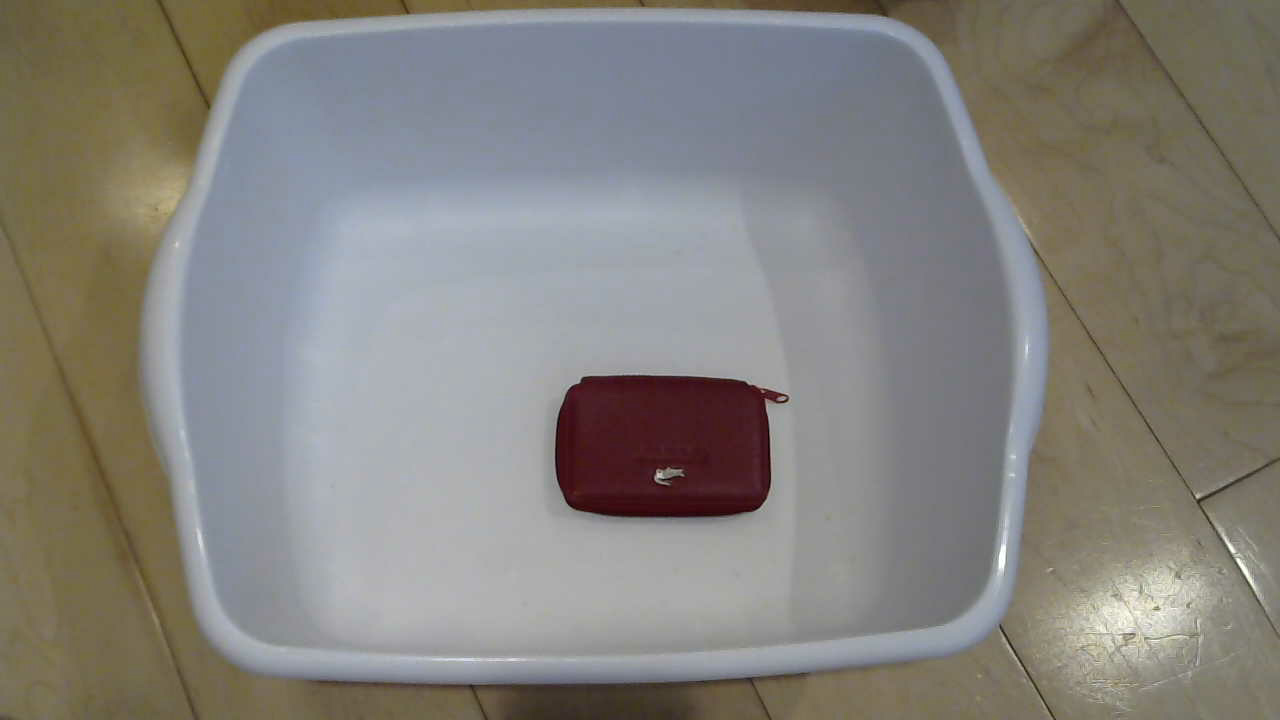wallet: (537, 370, 794, 536)
